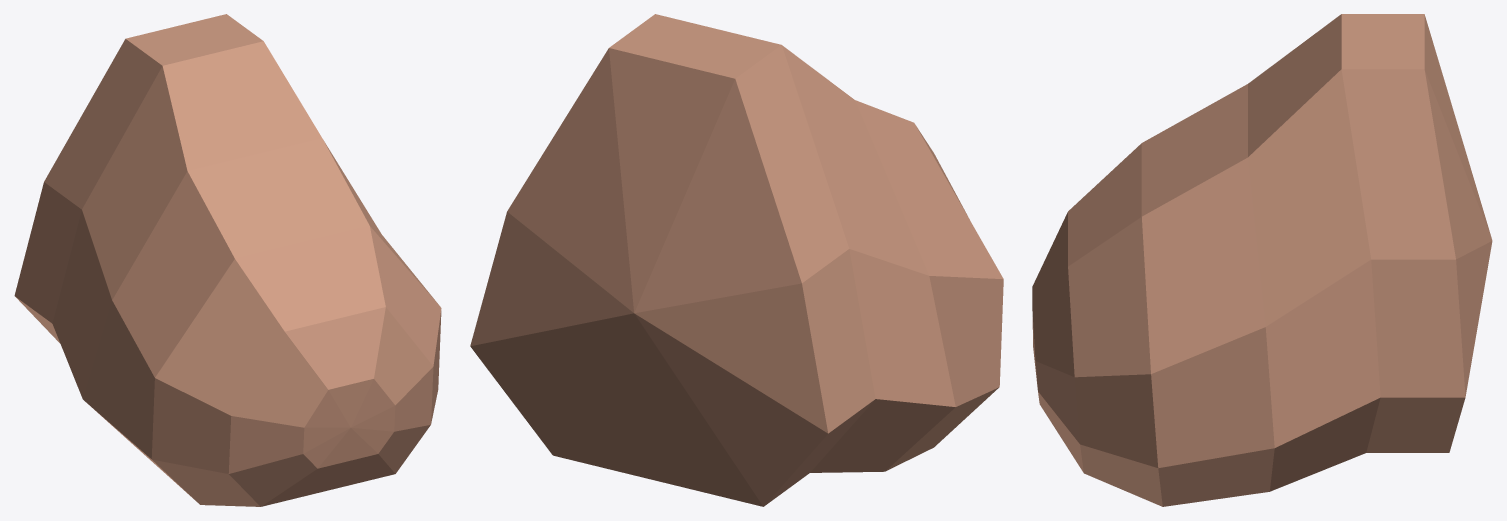
File: nose_dw_round.glb
3 renders of one model, left to right at view 1: azimuth 30°, elevation 25°; view 2: azimuth 150°, elevation 25°; view 3: azimuth 270°, elevation 25°, orthographic. The views are drawn at different scales.
Parts seen in each view (by area): view 1: Snout; view 2: Snout; view 3: Snout.
Boxes of the visible parts, bbox=[...] form: Snout: bbox=[14, 14, 441, 506]; Snout: bbox=[470, 14, 1003, 506]; Snout: bbox=[1032, 14, 1492, 506].
Size of the model in its own units: 0.038 by 0.042 by 0.0422.
Materials: 1 (1 with a texture image).
